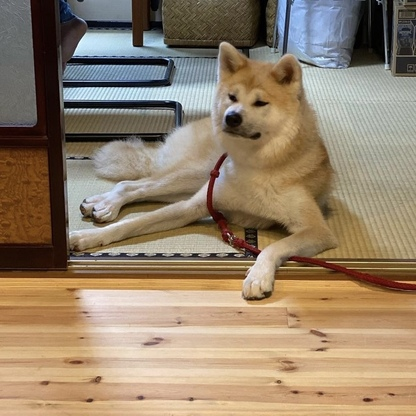akita: (60, 37, 361, 308)
